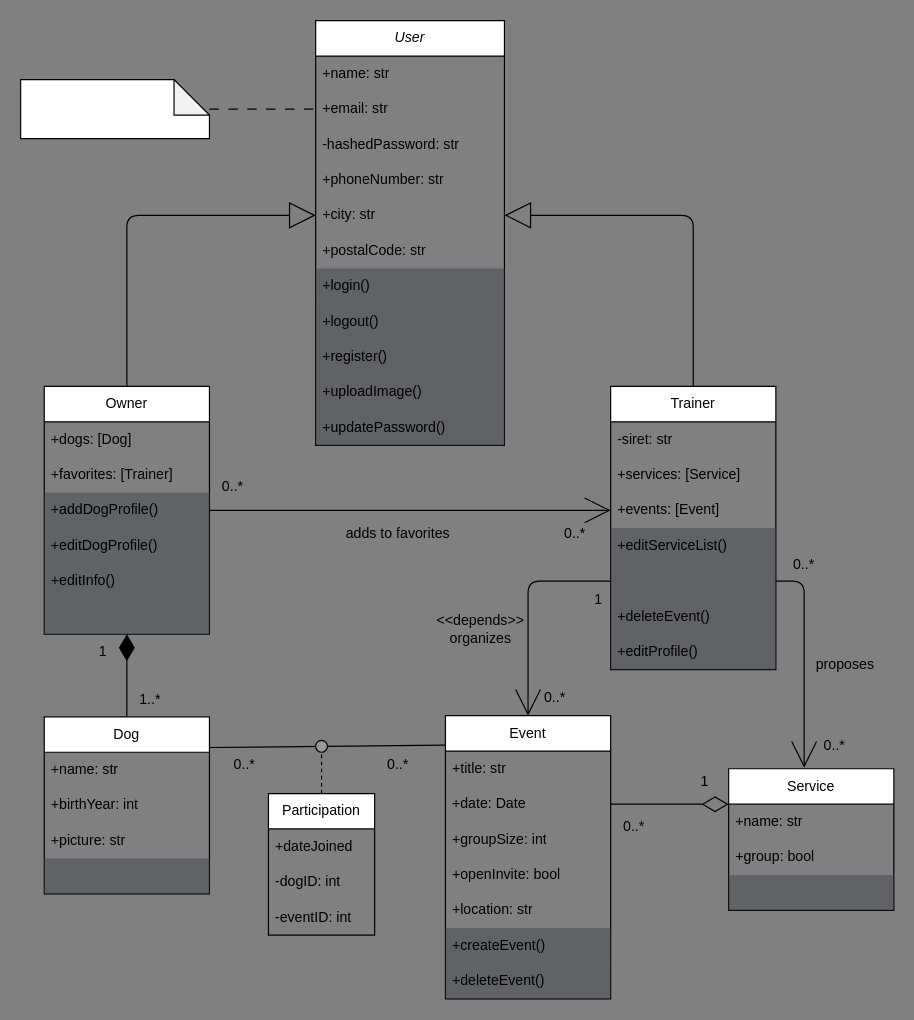
The diagram is 914 pixels wide and 1020 high, and some of its shapes have lost their labels. Here are the shapes that lost their labels. From the top down, the centre of each, then its label:
At point (114, 108): "Main user is abstract".
At point (692, 580): "+editEvent()".
